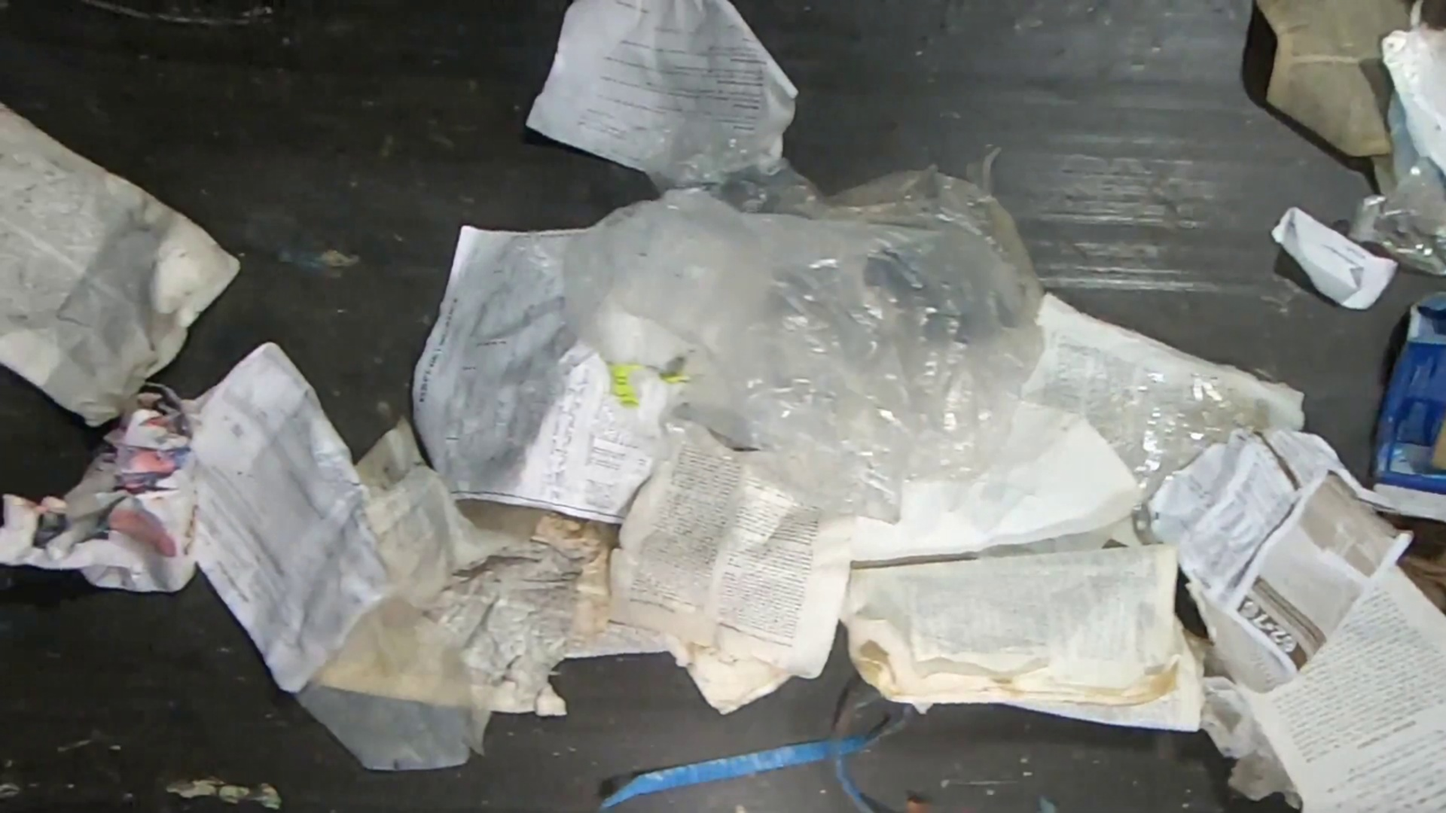cardboard: (1369, 292, 1446, 525)
plastic: (563, 117, 1046, 524), (1094, 367, 1272, 543), (1350, 156, 1446, 275)
